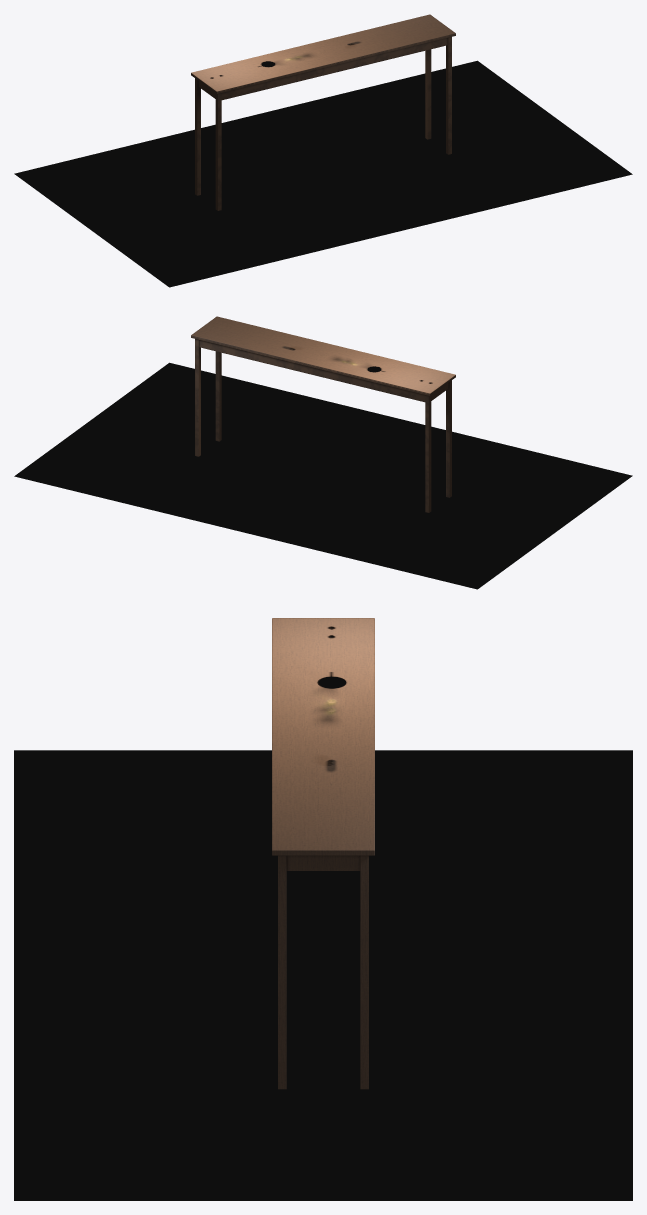
The model's file is 814_plat.glb.
3 views of the same model, one above another, from view 1: azimuth 30°, elevation 25°; view 2: azimuth 150°, elevation 25°; view 3: azimuth 270°, elevation 25° (orthographic). The views are drawn at different scales.
Parts seen in each view (by area): view 1: Shadow, Table; view 2: Shadow, Table; view 3: Shadow, Table.
Boxes of the visible parts, left/top/right/bottom form: Shadow: left=14, top=60, right=632, bottom=287; Table: left=191, top=14, right=455, bottom=210; Shadow: left=14, top=362, right=632, bottom=589; Table: left=191, top=316, right=455, bottom=512; Shadow: left=14, top=750, right=632, bottom=1200; Table: left=272, top=618, right=374, bottom=1089.
Bounding box in the file's own units: 12.4 × 3.1 × 7.2.
Materials: 2 (2 with a texture image).
